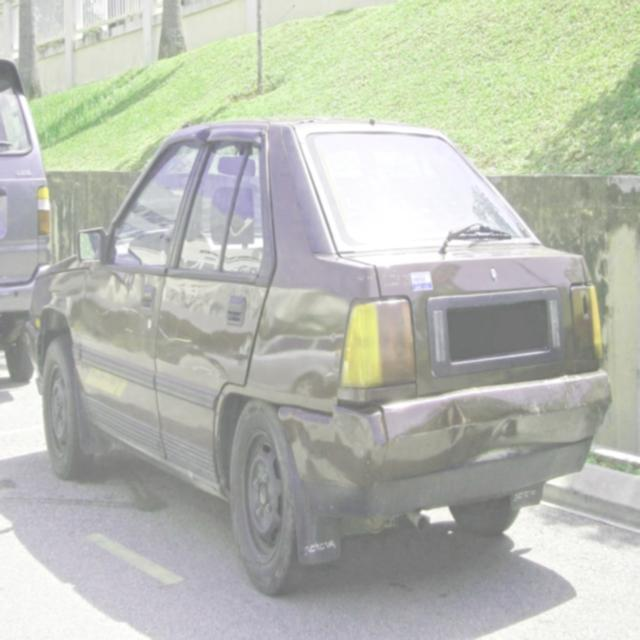minor: (331, 412, 375, 455), (157, 323, 194, 346), (185, 357, 221, 380), (108, 305, 142, 317), (123, 326, 137, 337)
moderate: (434, 395, 520, 464)
